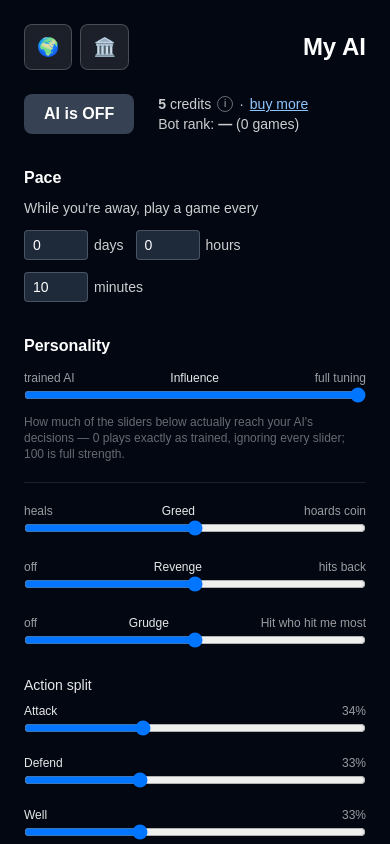
Scenario: MyAiPage › action split sliders › takes the delta from the most recently touched other slider first
Expected: the heading "Action split" is shown, [24,677,92,693]
Set the slider below "attack" to "60" at coordinates (228, 728), box [24,720,366,736]
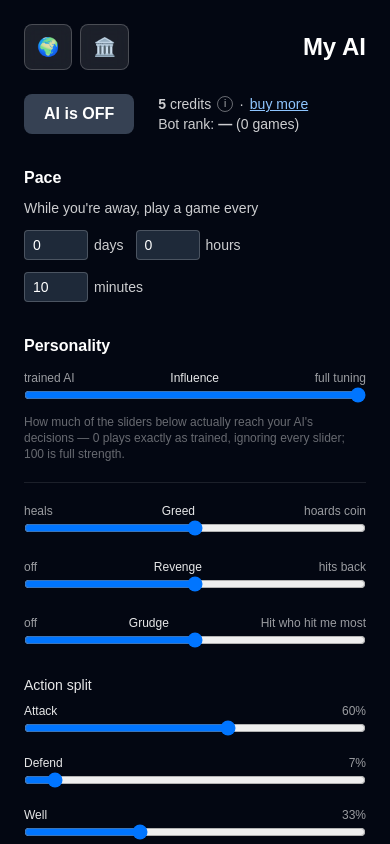
Result: the slider below "defend" holds "7" at [24,772,366,788]
Set the slider below "well" to "50" at coordinates (195, 832), box [24,824,366,840]
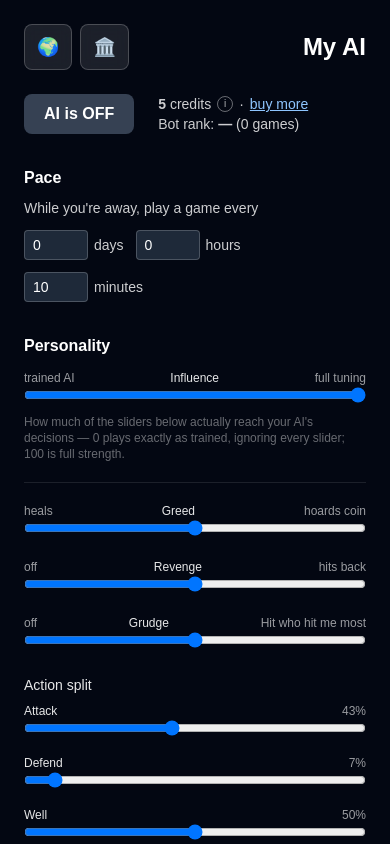
Result: the slider below "defend" holds "7" at [24,772,366,788]
Result: the slider below "attack" holds "43" at [24,720,366,736]
